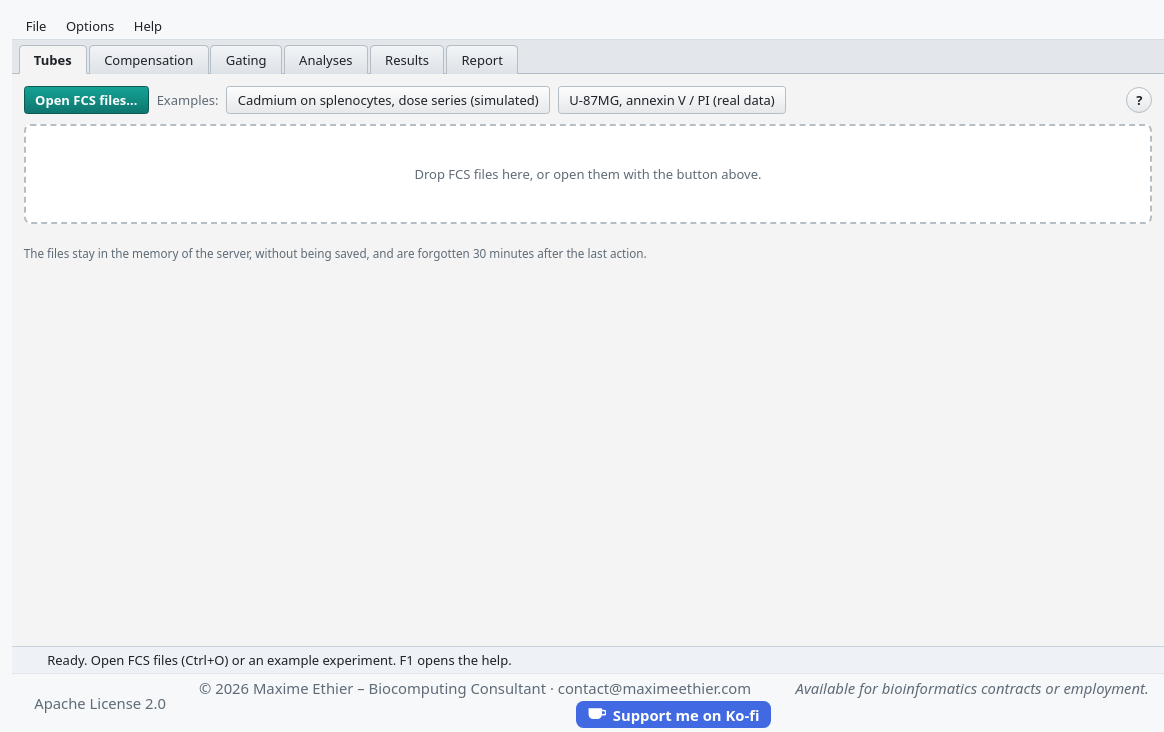
Test: Application › tells when the server has forgotten the files
Click the button "Cadmium on splenocytes, dose series (simulated)".
click(388, 100)  # box [226, 86, 550, 114]
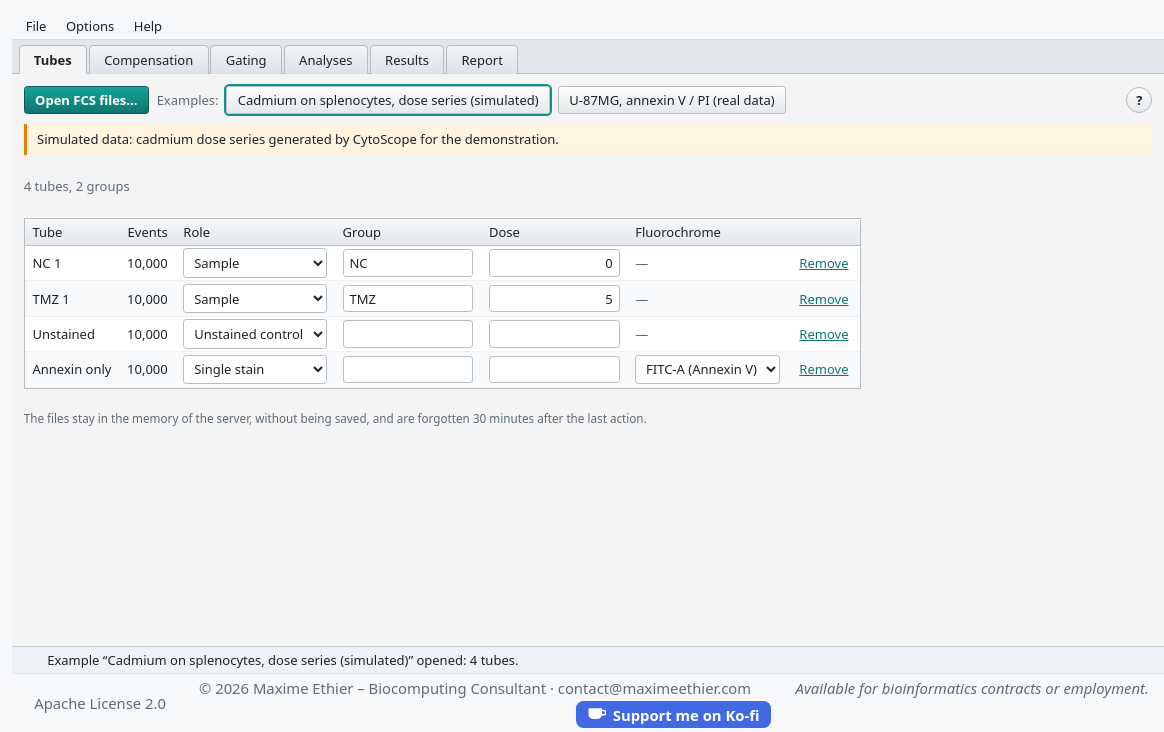
Check: the table named "Tubes" is shown, box [25, 219, 860, 388]
Select "Unstained control" in the dropdown named "Role TMZ 1" at (255, 299), box [183, 284, 327, 313]
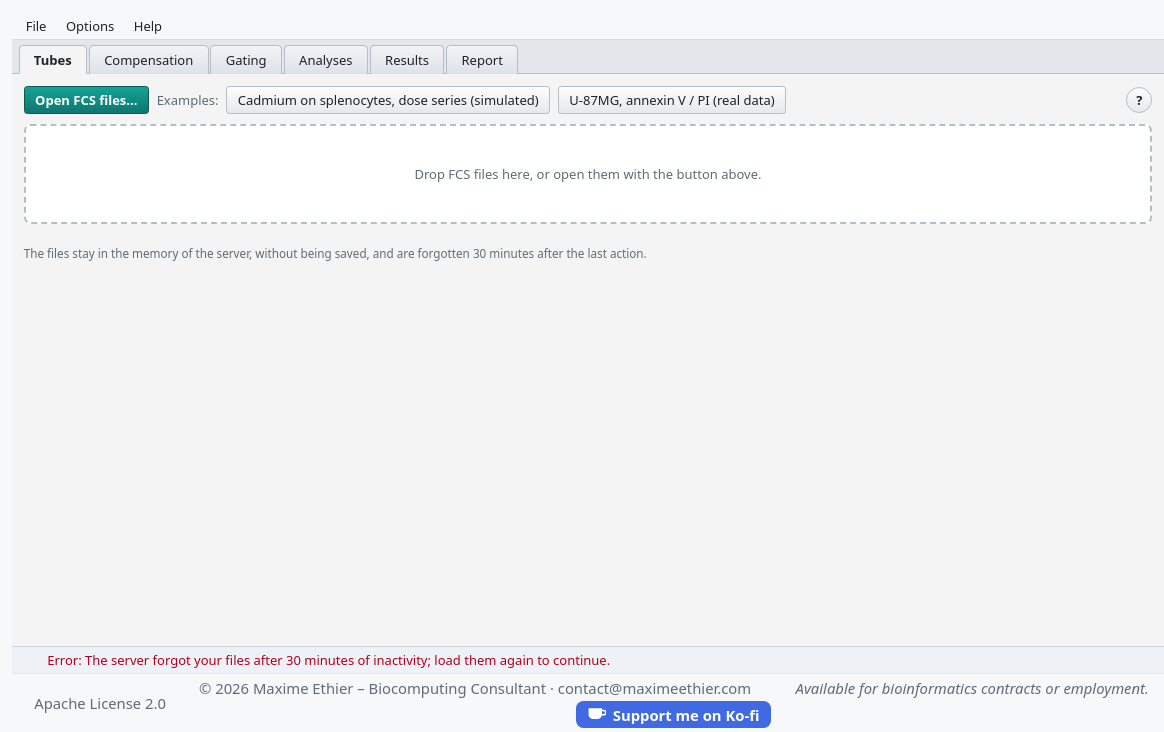
Check: the message shows "forgot your files after 30 minutes", box [47, 651, 610, 669]
Check: the text "Drop FCS files here, or open them with the button above." is shown, box [24, 124, 1152, 224]
